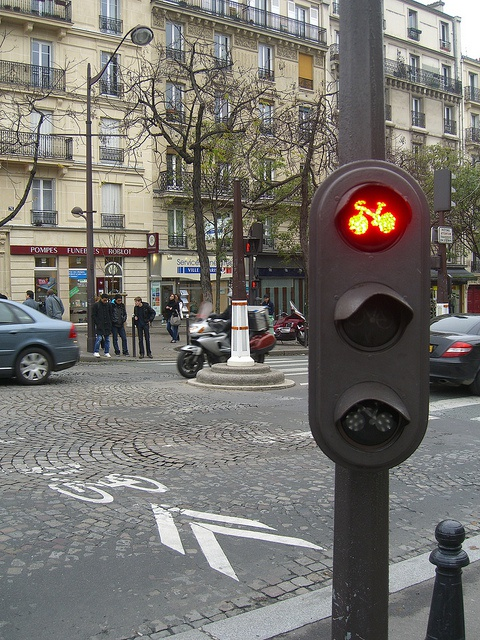non-vehicle: (173, 300, 276, 376), (273, 299, 309, 347)
